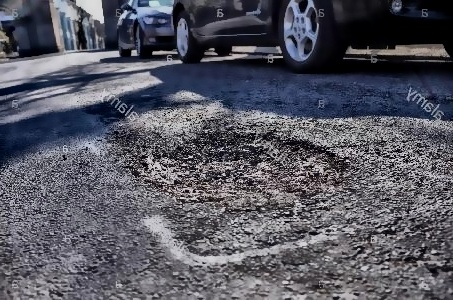pothole: (104, 125, 354, 212)
